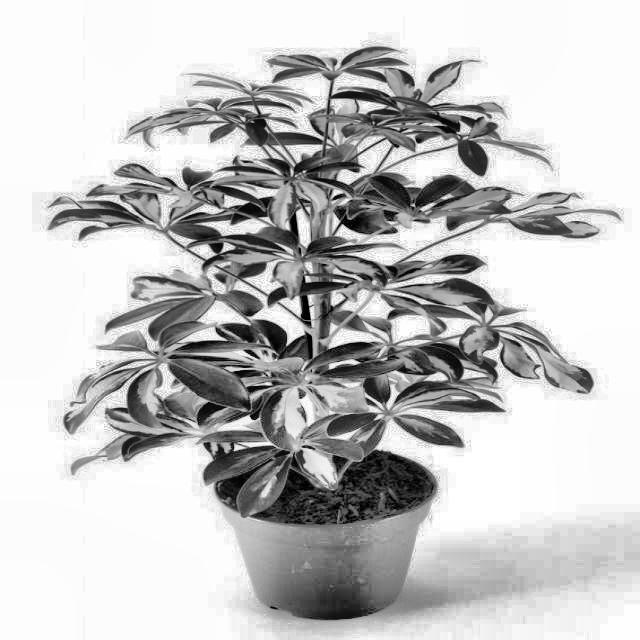plants: (39, 41, 628, 626)
